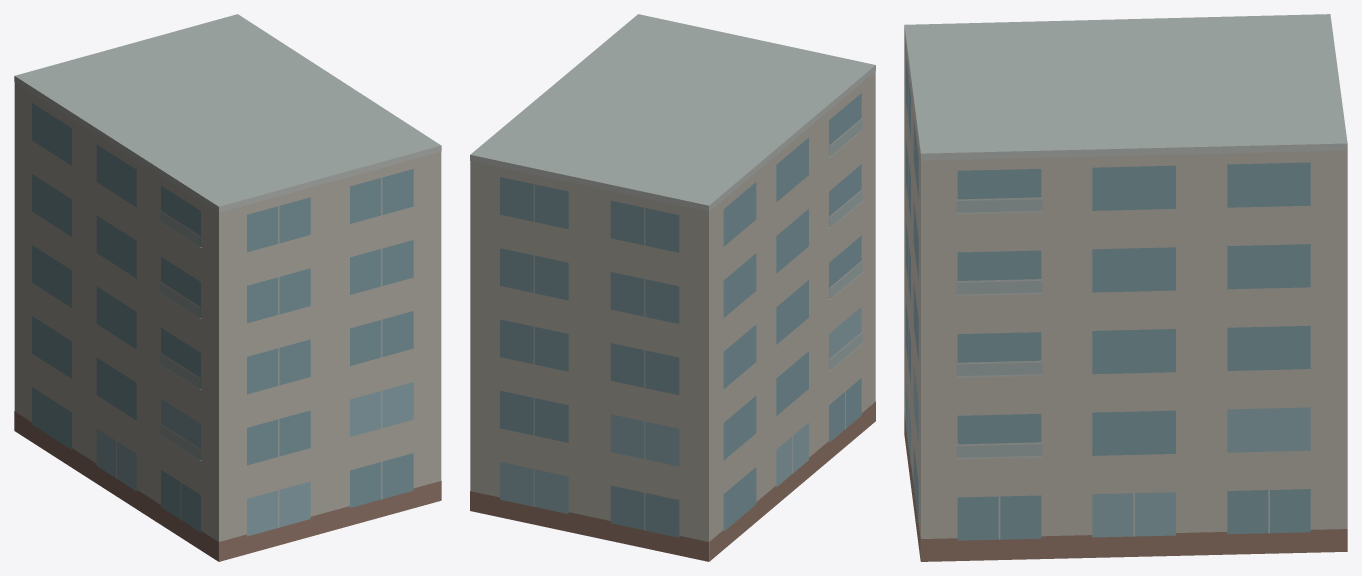
File: survey-upis-32994241.glb
3 views of the same model, side by side, from view 1: azimuth 30°, elevation 25°; view 2: azimuth 150°, elevation 25°; view 3: azimuth 270°, elevation 25° (orthographic). The views are drawn at different scales.
Parts seen in each view (by area): view 1: survey-upis-32994241.tmp; view 2: survey-upis-32994241.tmp; view 3: survey-upis-32994241.tmp.
Part boxes in pixels (x1,y1,x2,y2): survey-upis-32994241.tmp: (14, 14, 441, 561); survey-upis-32994241.tmp: (470, 14, 875, 561); survey-upis-32994241.tmp: (904, 14, 1347, 561).
Bounding box in the file's own units: 10.28 × 14 × 13.79.
